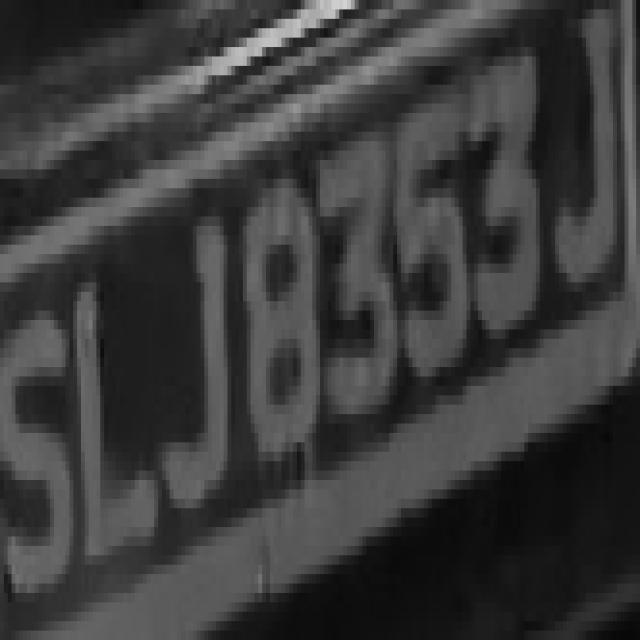3: (459, 19, 547, 376), (308, 132, 401, 442)
5: (385, 76, 459, 396)
8: (239, 150, 328, 490)
J: (154, 188, 232, 536), (547, 10, 621, 302)
L: (70, 226, 170, 583)
S: (0, 4, 1, 9)
